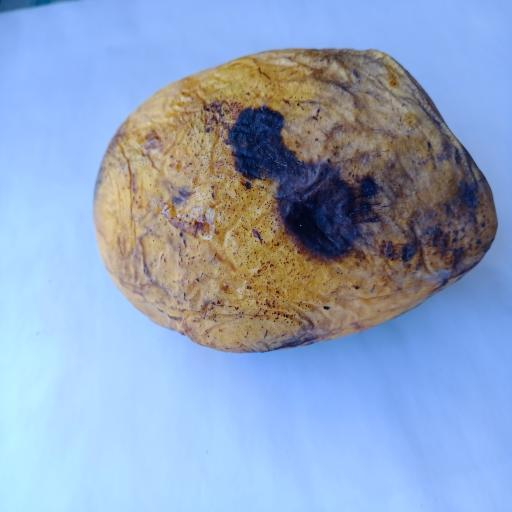mango-overripe: (81, 37, 503, 363)
